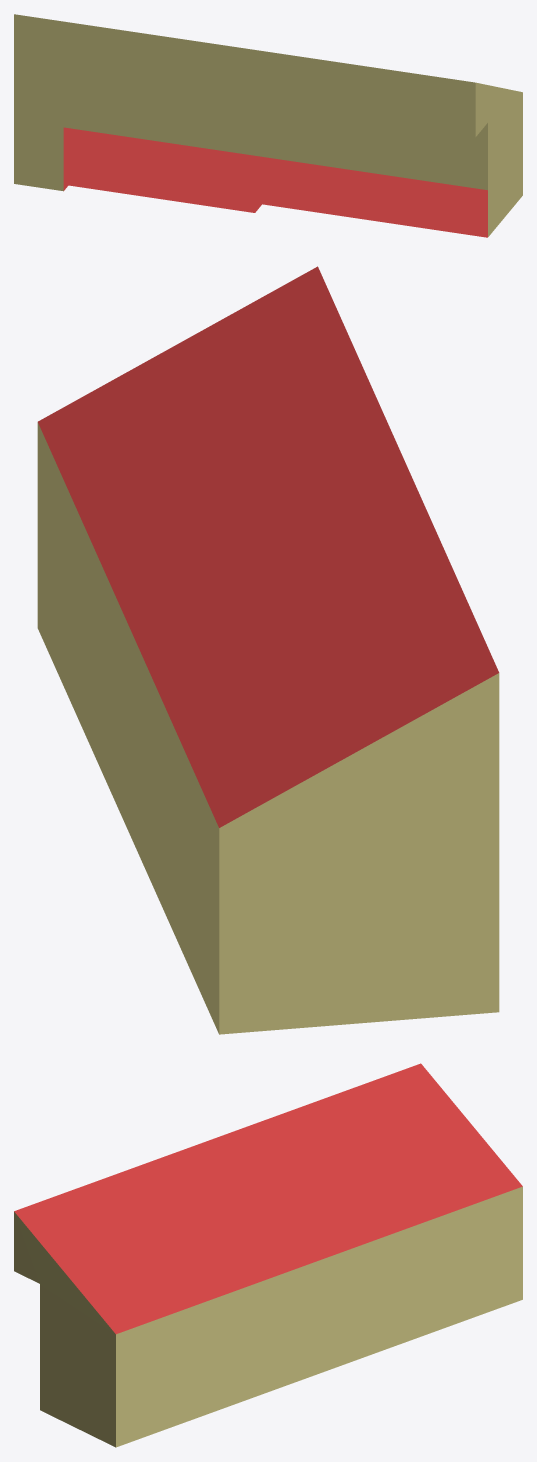
The picture shows the model from 3 angles, top to bottom: view 1: azimuth 30°, elevation 25°; view 2: azimuth 150°, elevation 25°; view 3: azimuth 270°, elevation 25°; orthographic projection. The views are drawn at different scales.
Visible parts, largest first — view 1: group_4, group_5; view 2: group_3, group_4; view 3: group_3, group_4.
Part boxes in pixels (<box>): group_4: <box>14,14,522,236</box>; group_5: <box>63,127,487,237</box>; group_3: <box>38,266,499,827</box>; group_4: <box>37,422,499,1034</box>; group_3: <box>14,1063,522,1334</box>; group_4: <box>14,1186,522,1447</box>.
Bounding box in the file's own units: 14.11 × 15.32 × 6.18.
